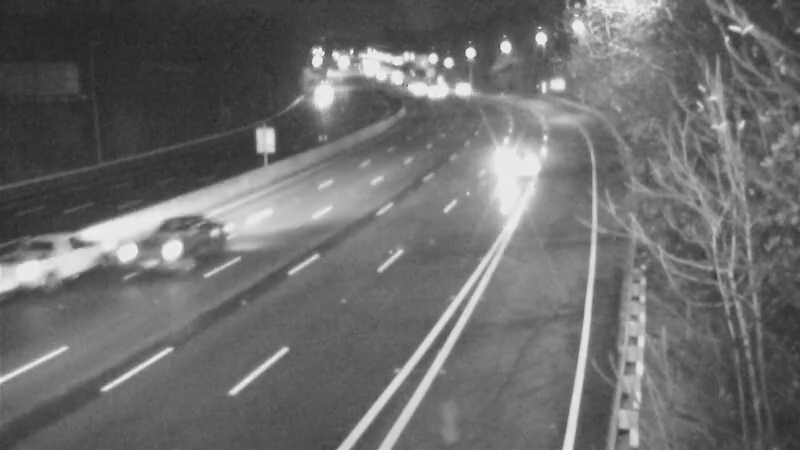vehicle: (476, 127, 556, 207), (131, 206, 211, 286), (1, 228, 74, 308), (433, 61, 483, 111)
